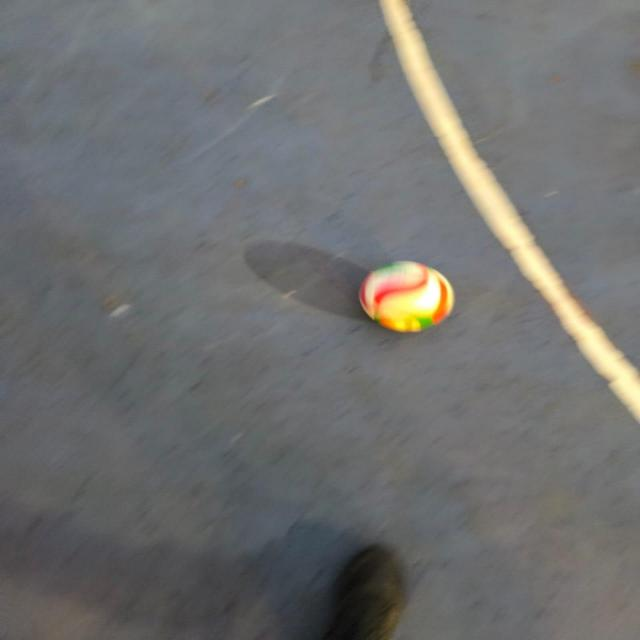volleyball: (357, 260, 456, 332)
